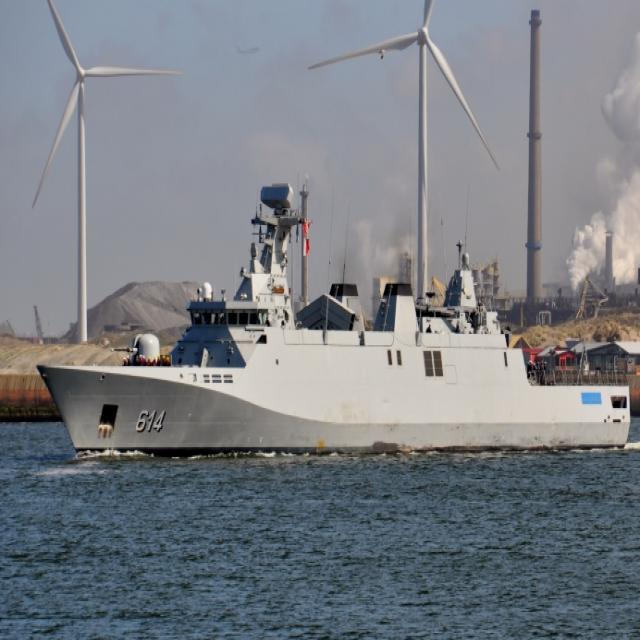Fragata: (36, 181, 636, 464)
